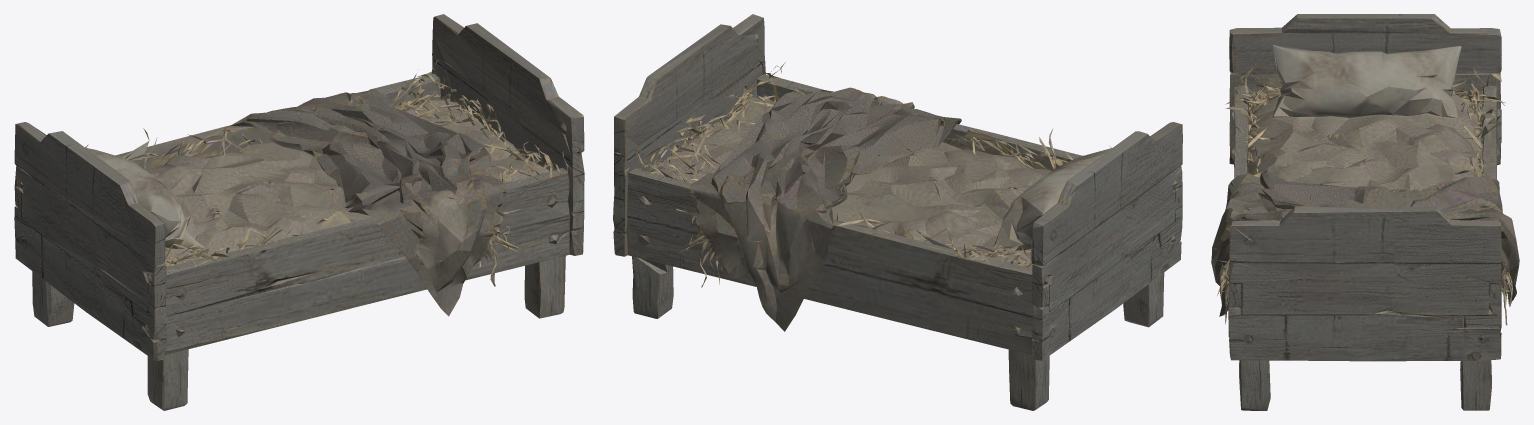
File: bed_box_poor.glb
The picture shows the model from 3 angles, left to right: view 1: azimuth 30°, elevation 25°; view 2: azimuth 150°, elevation 25°; view 3: azimuth 270°, elevation 25°; orthographic projection. The views are drawn at different scales.
Parts seen in each view (by area): view 1: bed_box_poor; view 2: bed_box_poor; view 3: bed_box_poor.
Boxes of the visible parts, x1=… form: bed_box_poor: x1=14, y1=14, x2=584, y2=410; bed_box_poor: x1=613, y1=14, x2=1182, y2=410; bed_box_poor: x1=1211, y1=14, x2=1519, y2=410.
Size of the model in its own units: 2 by 0.95 by 1.28.
1 material, 1 textured.
